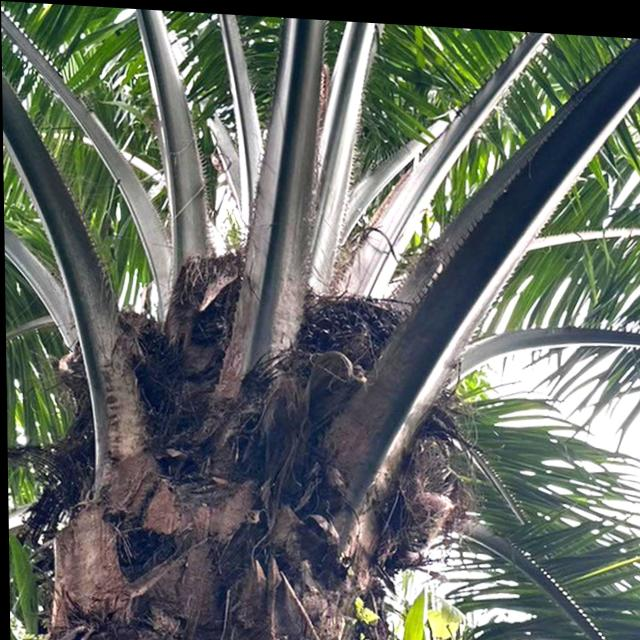ripe: (280, 258, 416, 410)
